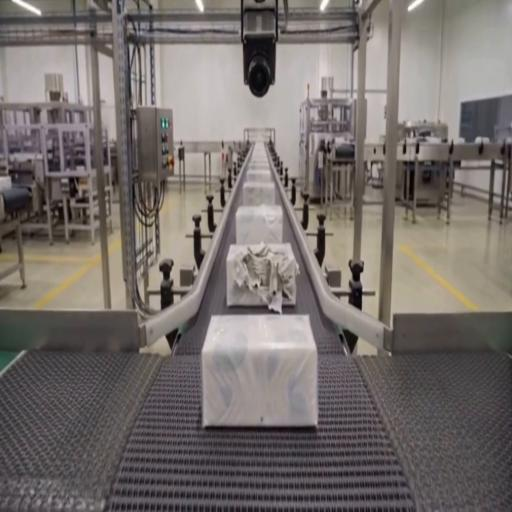defective: (202, 313, 317, 429), (226, 241, 298, 308)
good: (234, 204, 284, 246), (242, 180, 277, 208), (246, 160, 272, 183), (246, 144, 271, 165)
